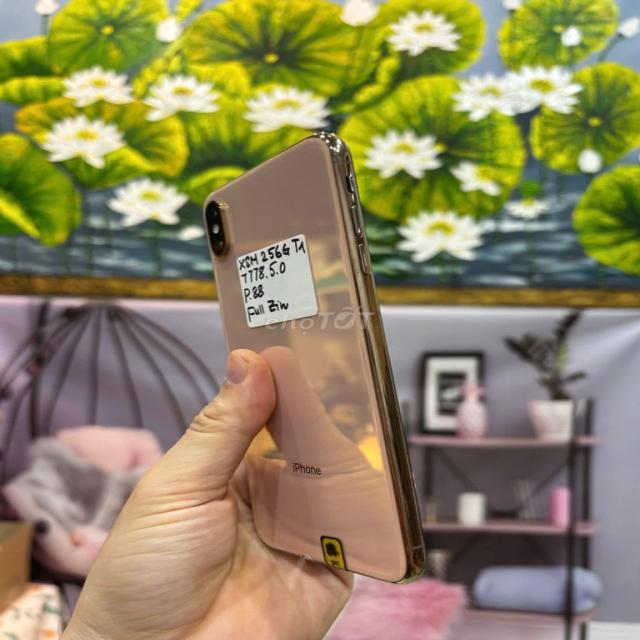gen_x_xs: (168, 128, 456, 594)
